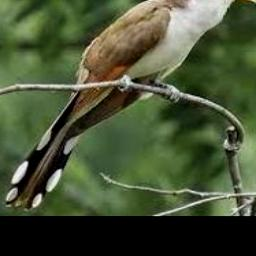Cuckoo: (4, 0, 256, 210)
